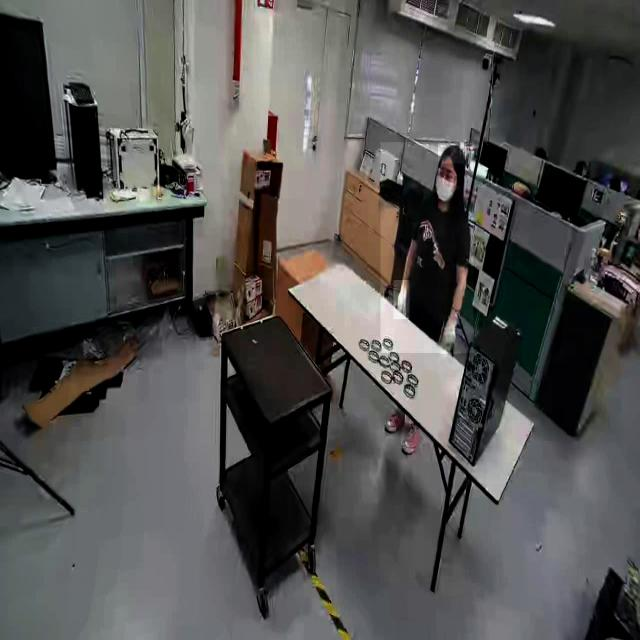face_mask: (434, 161, 458, 206)
hand_glove: (439, 314, 462, 354), (394, 280, 410, 320)
head_nohelmet: (438, 143, 464, 165)
person: (380, 142, 474, 354)
shoes: (400, 419, 422, 456)
